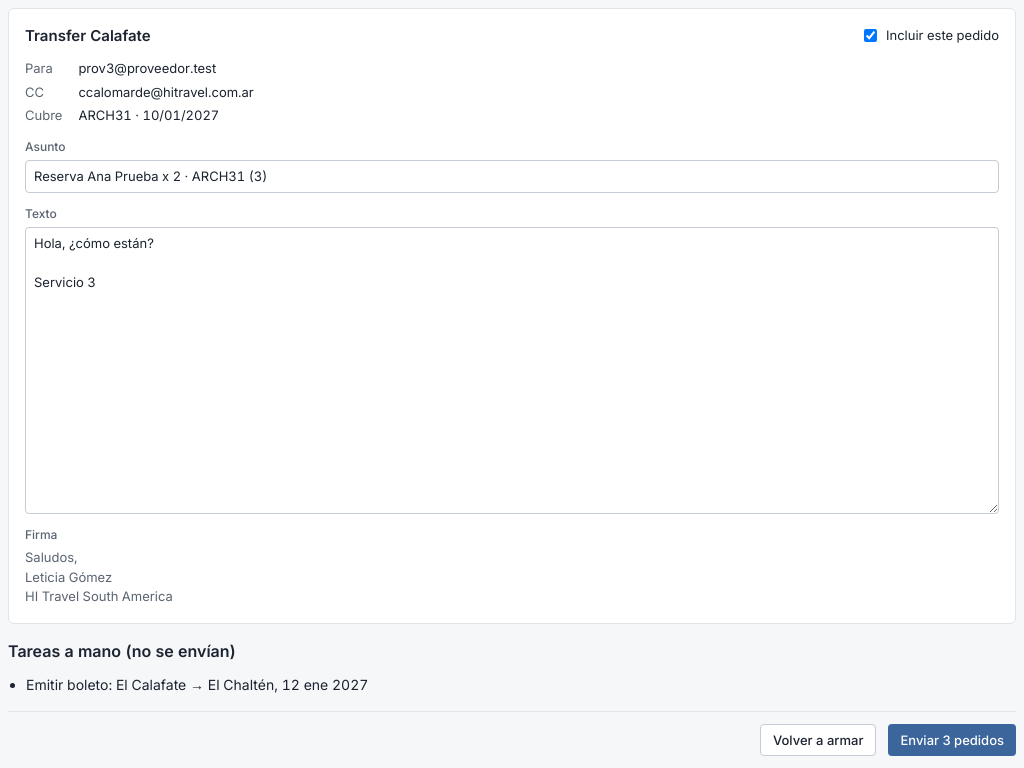
Test: lo que pidió la agencia (owner 2026-10-20) › con pedidos especiales: el recuadro arriba, y resumido en el diálogo (no bloquea el envío)
The image size is (1024, 768).
(page scrolled)
Click the button "Enviar 3 pedidos" at coordinates (952, 740), box [888, 724, 1016, 756]
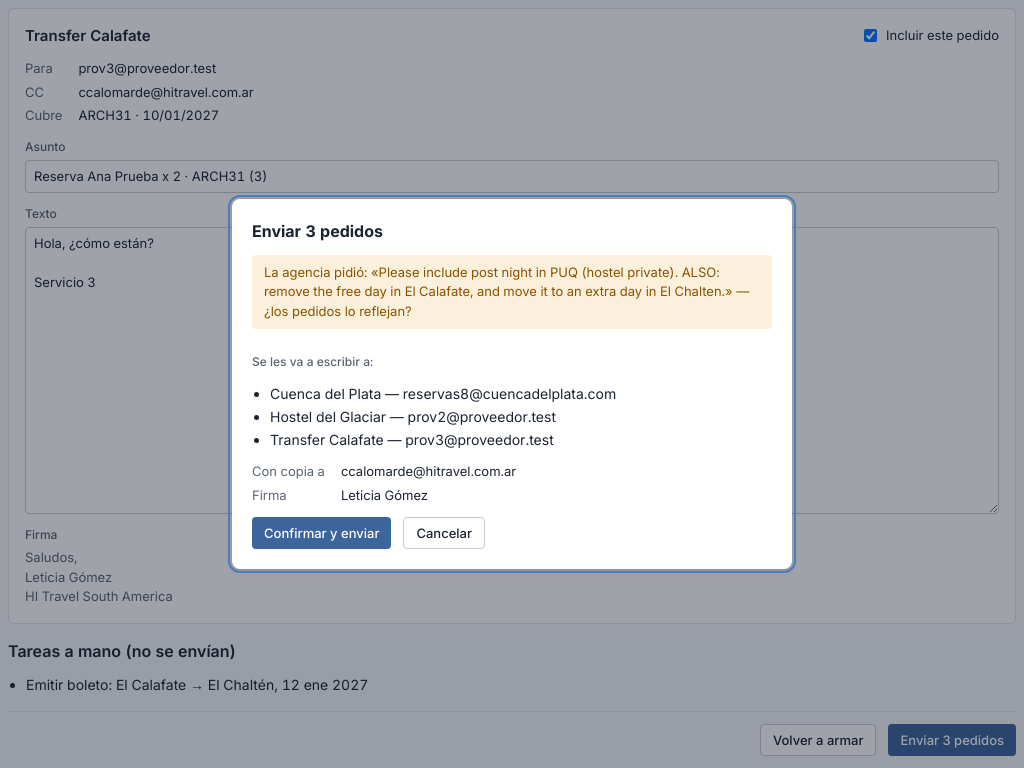
Expected: the text with test id "pidio-dialogo" shows "La agencia pidió: «Please include post night in PUQ", [264, 264, 749, 319]
Expected: the button "Confirmar y enviar" is enabled, [252, 517, 391, 549]
